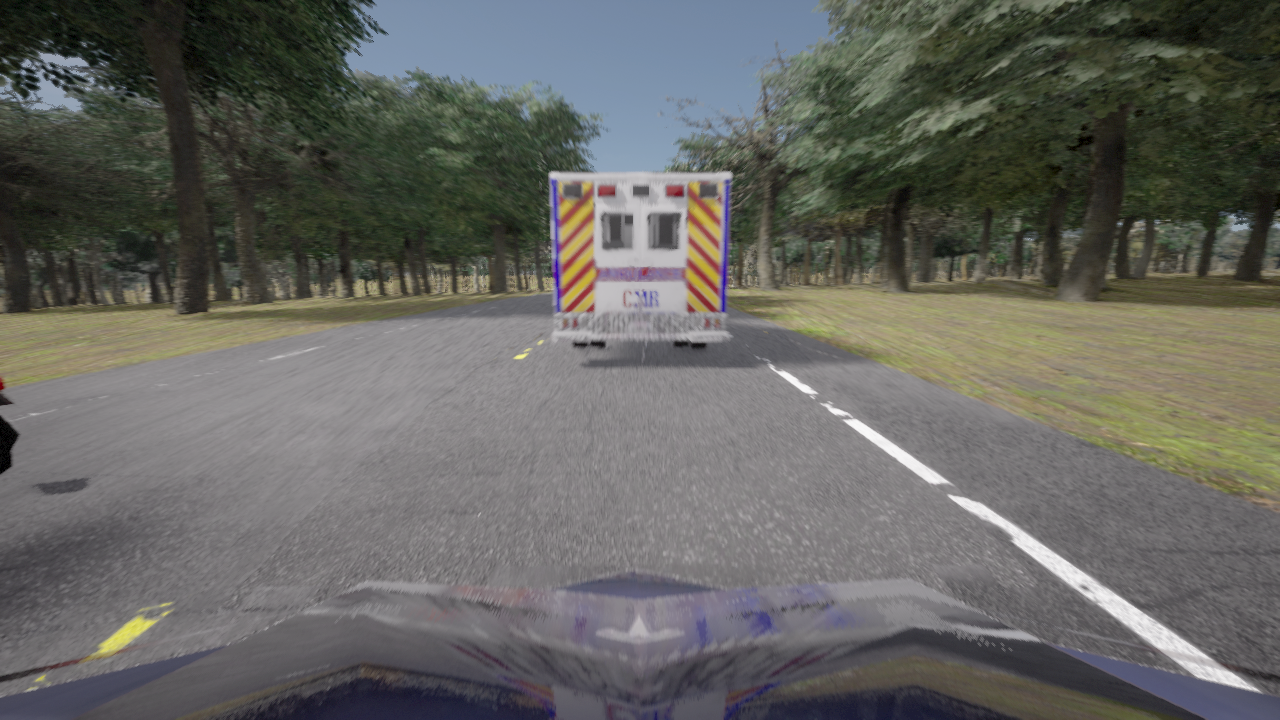cyclist: (0, 569, 1279, 719), (550, 174, 730, 348)
